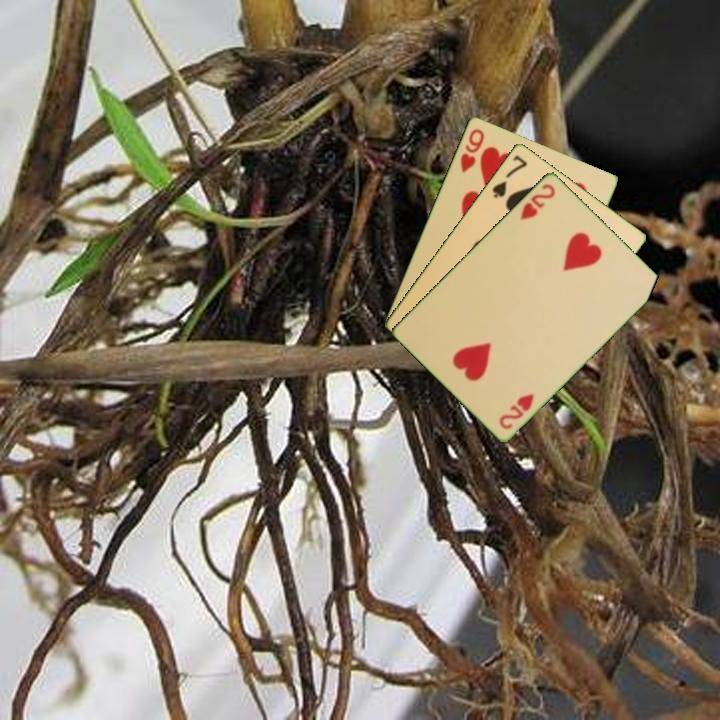2h: (516, 180, 558, 223), (496, 389, 537, 432)
7s: (489, 151, 530, 201)
9h: (456, 125, 487, 175)
